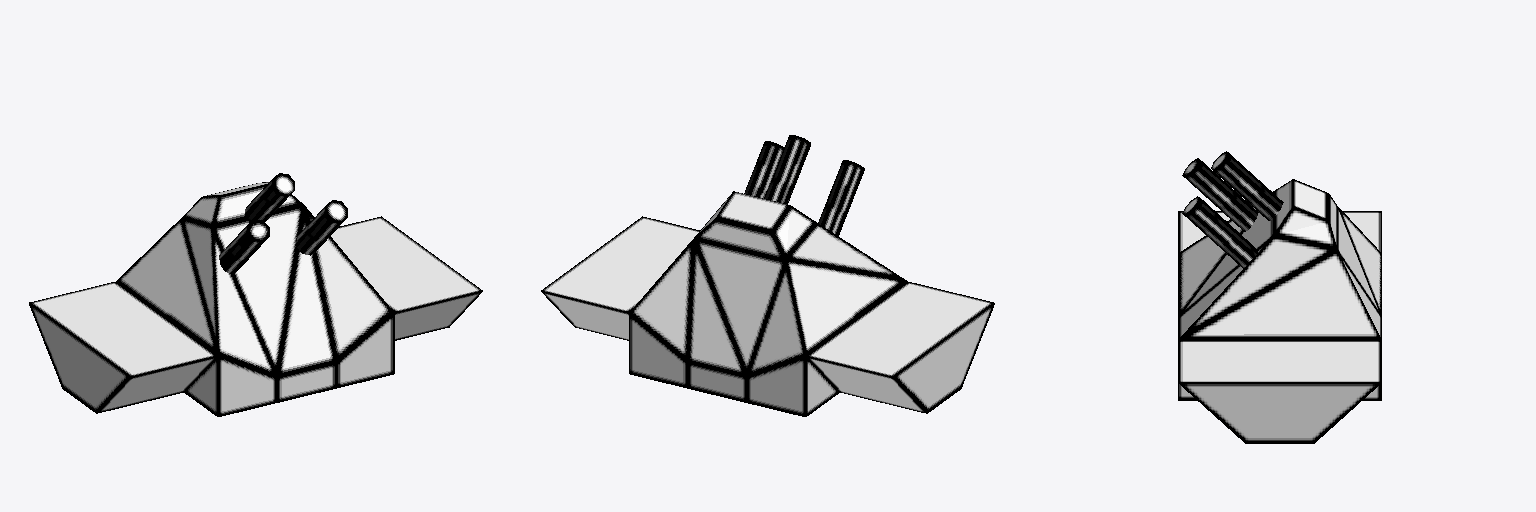
3 views of the same model, side by side, from view 1: azimuth 30°, elevation 25°; view 2: azimuth 150°, elevation 25°; view 3: azimuth 270°, elevation 25° (orthographic).
Parts seen in each view (by area): view 1: Box21; view 2: Box21; view 3: Box21.
Part boxes in pixels (x1,y1,x2,y2): Box21: (29,173,482,416); Box21: (541,135,994,416); Box21: (1178,151,1381,443).
Size of the model in its own units: 3.99 by 2.21 by 2.
Materials: 1 (1 with a texture image).